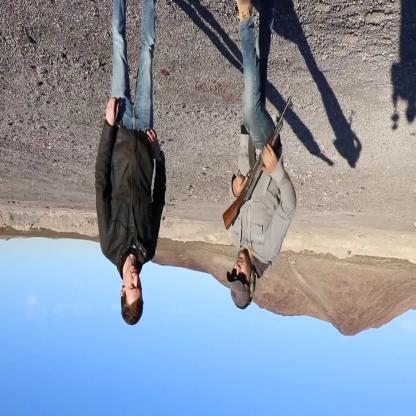long weapon: (222, 96, 298, 232)
